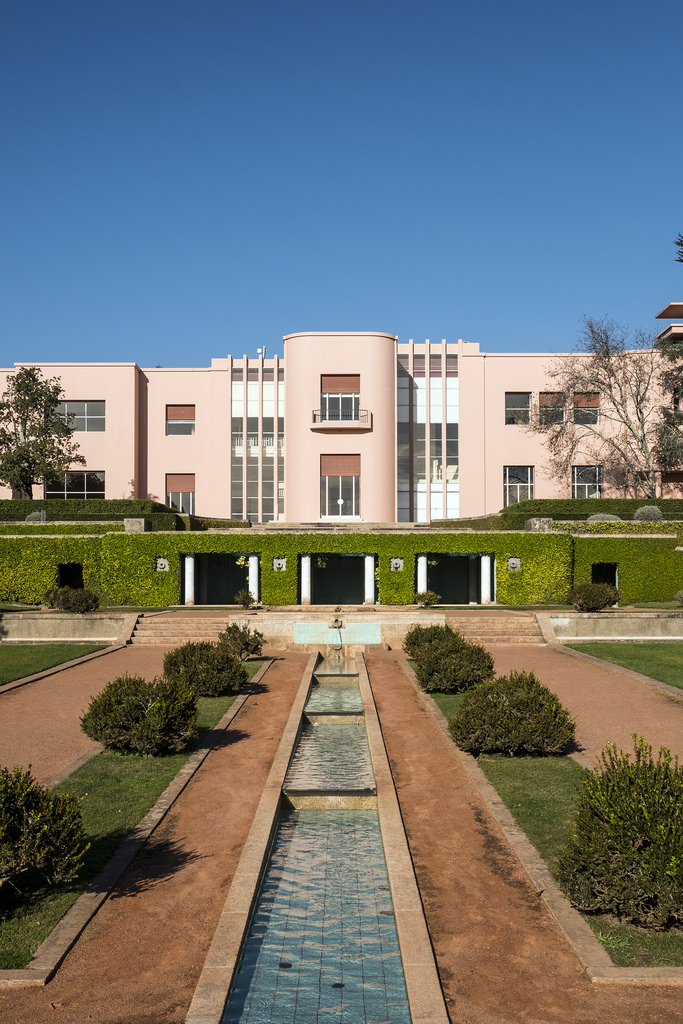serralves: (0, 231, 682, 522)
